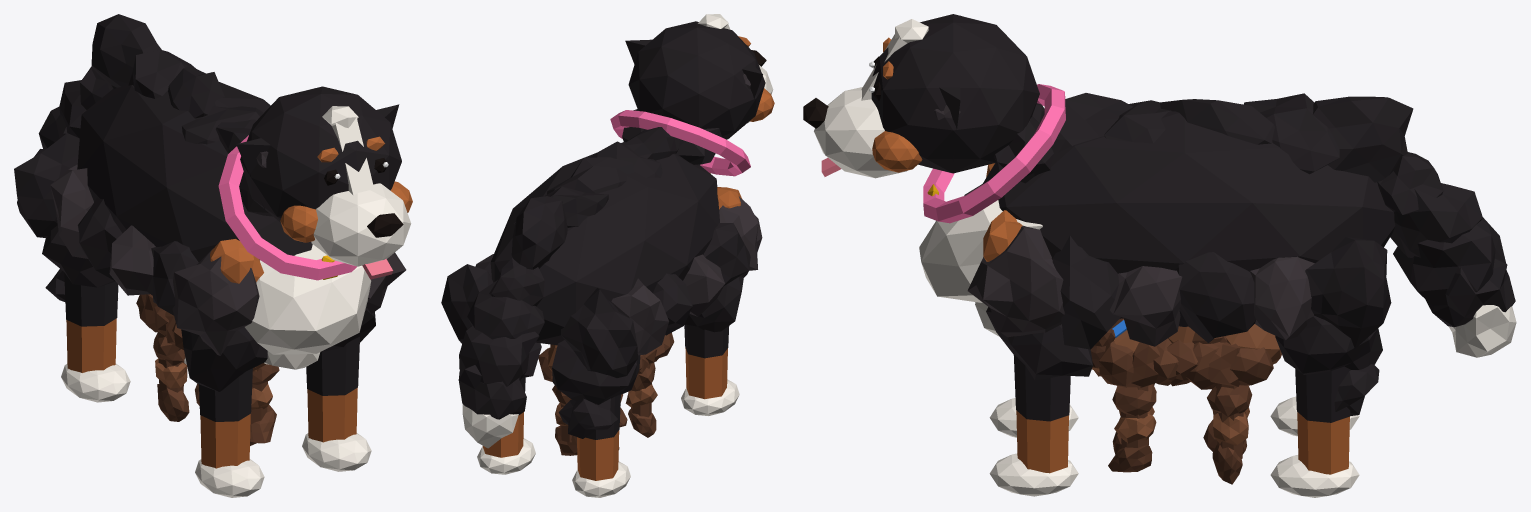
Rendered from dogs.glb.
3 views of the same model, side by side, from view 1: azimuth 30°, elevation 25°; view 2: azimuth 150°, elevation 25°; view 3: azimuth 270°, elevation 25° (orthographic). The views are drawn at different scales.
Visible parts, largest first — view 1: body_bernBlack, head_bernBlack, body_bernBlackLight, body_bernWhite, head_bernWhite, legFR_bernBlack, legBR_bernBlack, body_collarPink, legFL_bernBlack, tail_bernBlack, legFL_bernRust, legFR_bernRust (+12 smaller); view 2: body_bernBlack, head_bernBlack, tail_bernBlack, body_bernBlackLight, legBR_bernBlack, body_collarPink, legFR_bernBlack, legFR_bernRust, legBR_bernRust, tail_bernWhite, legFR_choco, legBL_bernWhite (+11 smaller); view 3: body_bernBlack, head_bernBlack, body_bernBlackLight, tail_bernBlack, legBL_bernBlack, body_choco, legFL_bernBlack, head_bernWhite, body_collarPink, body_bernWhite, legFL_bernRust, legBL_bernRust (+12 smaller).
Boxes of the visible parts, box(x1,y1,x2,y2) form: body_bernBlack: box(14, 14, 312, 315); head_bernBlack: box(240, 86, 401, 222); body_bernBlackLight: box(50, 164, 406, 355); body_bernWhite: box(245, 244, 371, 369); head_bernWhite: box(311, 106, 411, 266); legFR_bernBlack: box(181, 327, 267, 421); legBR_bernBlack: box(42, 225, 118, 326); body_collarPink: box(218, 135, 356, 280); legFL_bernBlack: box(306, 307, 375, 395); tail_bernBlack: box(38, 66, 112, 149); legFL_bernRust: box(307, 388, 357, 442); legFR_bernRust: box(200, 414, 250, 468); body_bernBlack: box(441, 109, 750, 377); head_bernBlack: box(628, 21, 765, 139); tail_bernBlack: box(458, 258, 544, 419); body_bernBlackLight: box(475, 196, 762, 355); legBR_bernBlack: box(552, 340, 640, 439); body_collarPink: box(610, 110, 750, 176); legFR_bernBlack: box(684, 276, 743, 358); legFR_bernRust: box(685, 347, 727, 399); legBR_bernRust: box(577, 430, 619, 480); tail_bernWhite: box(462, 404, 518, 448); legFR_choco: box(628, 362, 656, 437); legBL_bernWhite: box(477, 438, 535, 474); body_bernBlack: box(982, 93, 1413, 349); head_bernBlack: box(871, 14, 1039, 173); body_bernBlackLight: box(964, 184, 1314, 346); tail_bernBlack: box(1377, 152, 1515, 327); legBL_bernBlack: box(1275, 315, 1382, 422); body_choco: box(1099, 332, 1273, 389); legFL_bernBlack: box(986, 307, 1092, 421); head_bernWhite: box(814, 19, 928, 178); body_collarPink: box(923, 84, 1065, 223); body_bernWhite: box(919, 200, 1042, 336); legFL_bernRust: box(1016, 410, 1068, 473); legBL_bernRust: box(1297, 412, 1349, 474).
Bounding box in the file's own units: 1.83 × 2.98 × 4.32.
